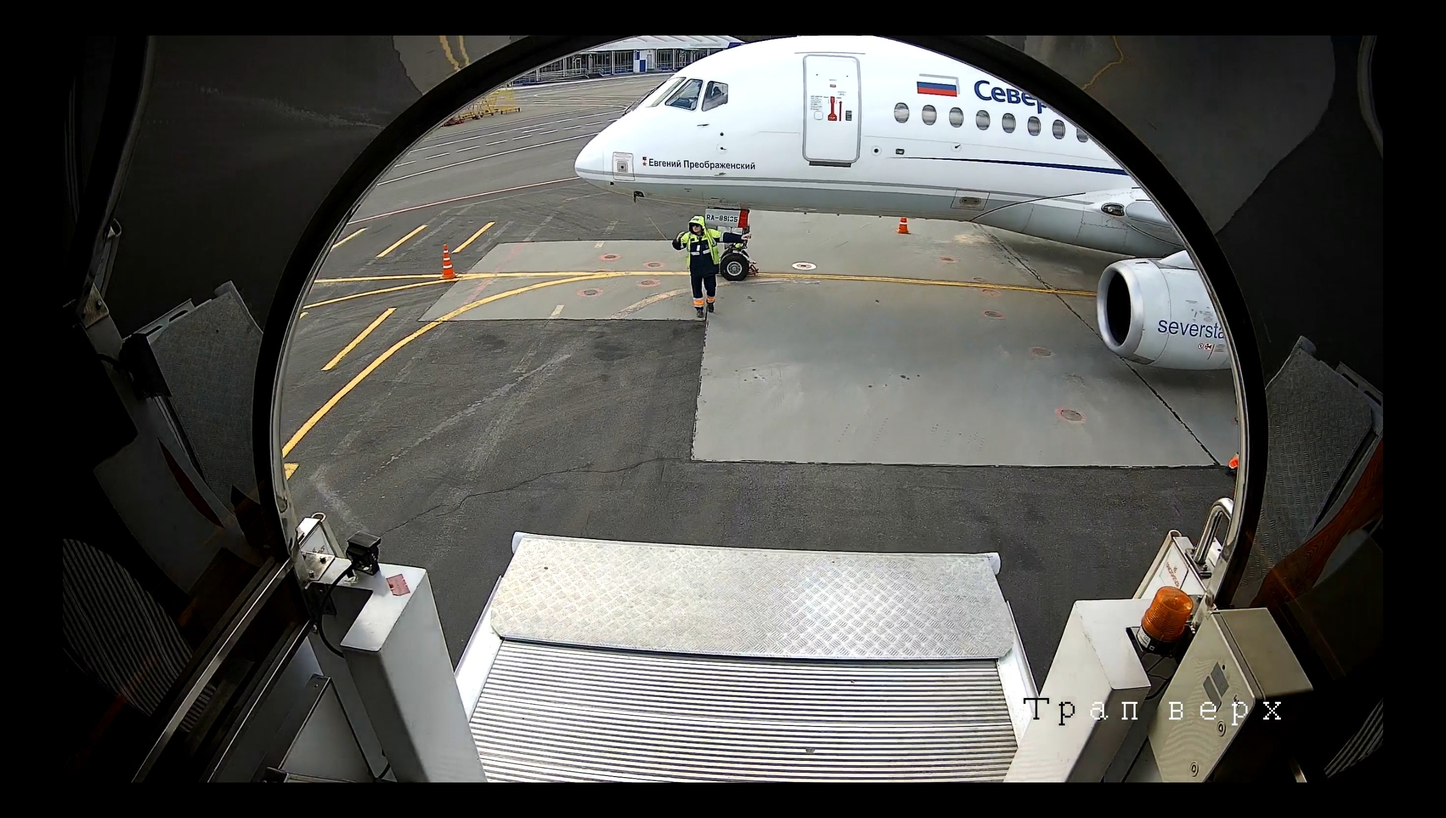boots: (749, 257, 765, 278)
wheels: (720, 251, 752, 283)
